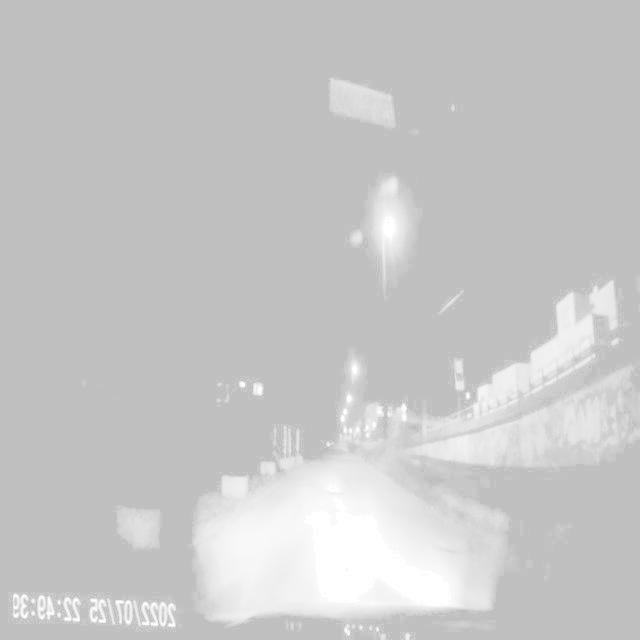Pothole: (313, 476, 346, 507), (323, 549, 357, 578), (431, 533, 465, 559)
